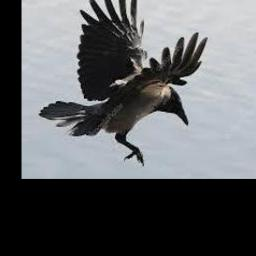Crow: (38, 0, 207, 167)
